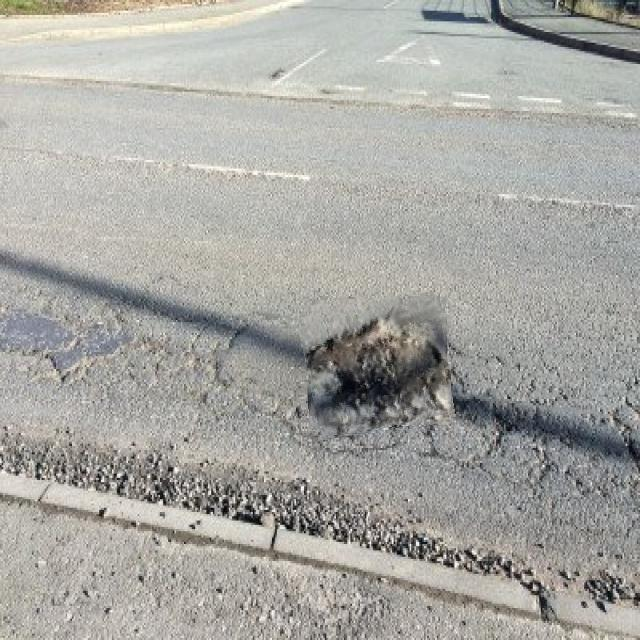Pothole: (301, 296, 451, 436)
